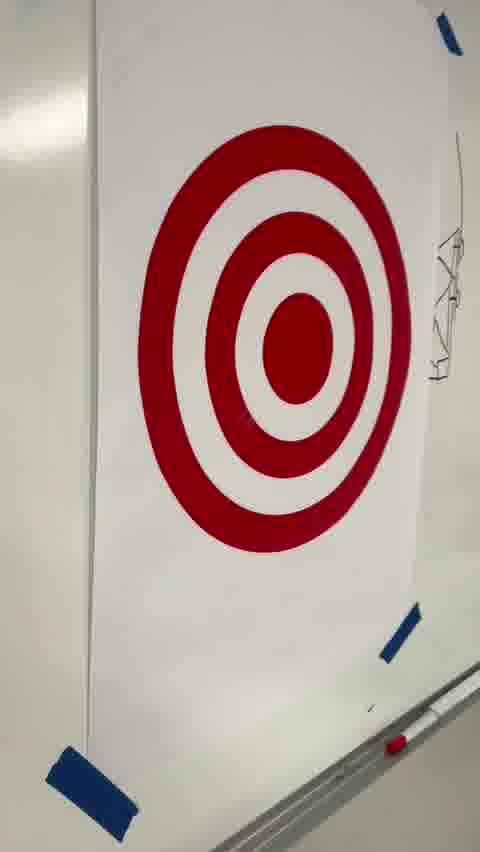target_red: (138, 122, 414, 555)
